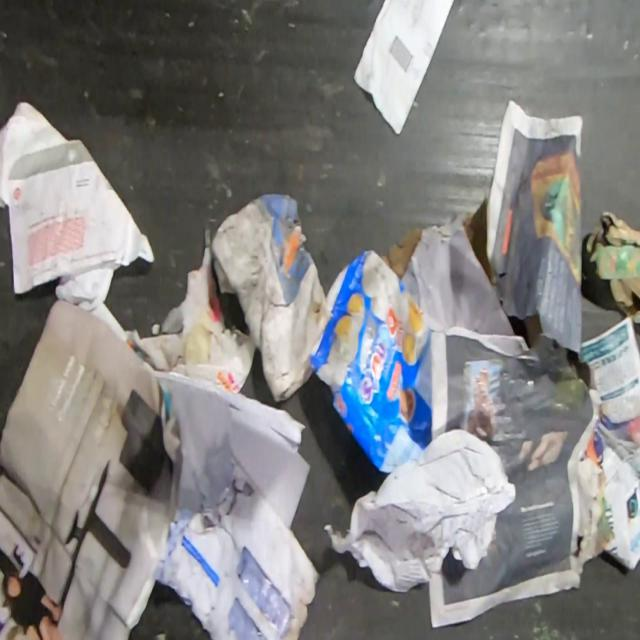cardboard: (307, 249, 432, 476), (584, 210, 640, 325), (600, 444, 640, 574), (585, 409, 640, 471), (463, 195, 492, 282), (379, 227, 426, 279), (522, 312, 544, 348)
soft_plastic: (159, 225, 256, 394)
